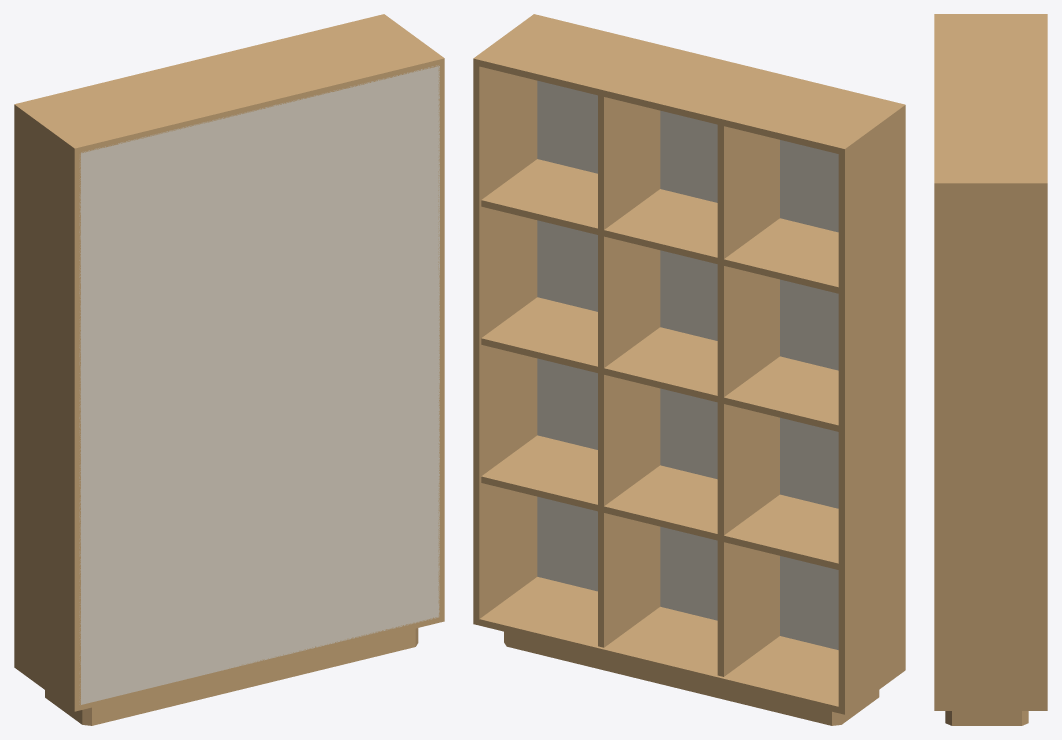
The model's file is SM_LPI_Storage_Bookcase_06.fbx.
3 views of the same model, side by side, from view 1: azimuth 30°, elevation 25°; view 2: azimuth 150°, elevation 25°; view 3: azimuth 270°, elevation 25° (orthographic). The views are drawn at different scales.
Parts seen in each view (by area): view 1: SM_LPI_Storage_Bookcase_06; view 2: SM_LPI_Storage_Bookcase_06; view 3: SM_LPI_Storage_Bookcase_06.
Boxes of the visible parts, x1,y1,x2,y2 form: SM_LPI_Storage_Bookcase_06: (14, 14, 444, 725); SM_LPI_Storage_Bookcase_06: (473, 14, 905, 725); SM_LPI_Storage_Bookcase_06: (934, 14, 1047, 725).
Size of the model in its own units: 1.2 by 1.82 by 0.34.
